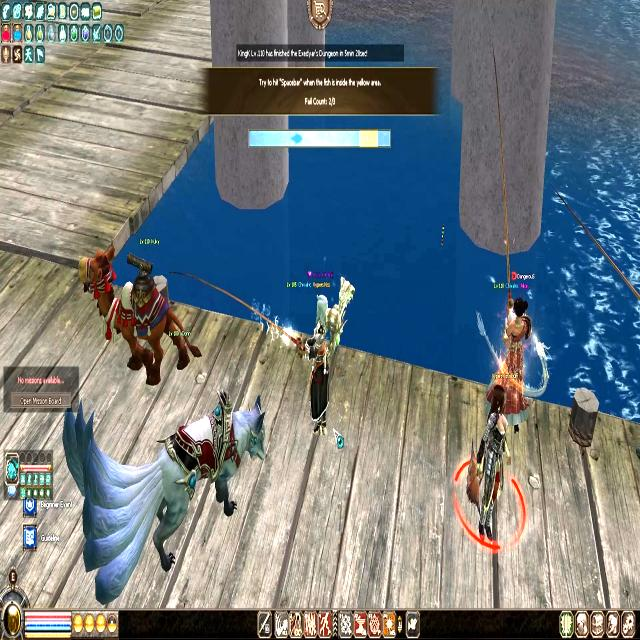fishes: (290, 132, 303, 145)
